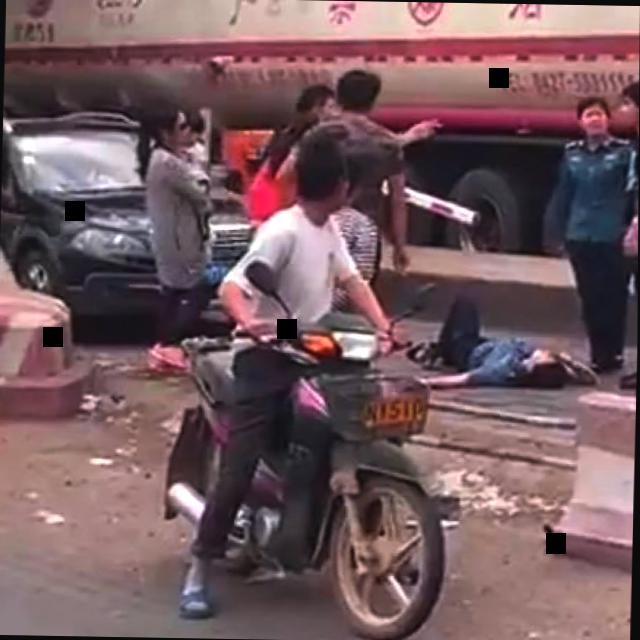Fall-Detected: (391, 284, 603, 392)
